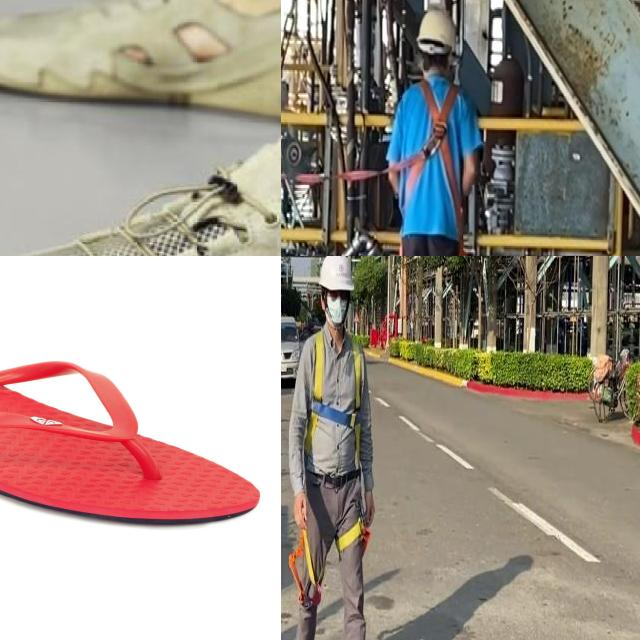Harness: (399, 71, 471, 256), (305, 331, 363, 464), (289, 530, 322, 608)
Sandals: (0, 333, 263, 529), (0, 77, 281, 256)
